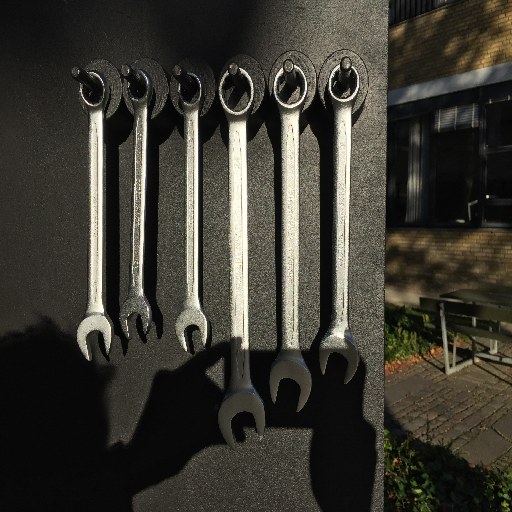bottom: (217, 388, 267, 450), (269, 353, 312, 413), (317, 331, 361, 384), (76, 312, 115, 362), (174, 305, 210, 353), (118, 295, 153, 340)
top: (216, 64, 257, 119), (271, 62, 310, 114), (76, 69, 112, 112), (326, 62, 361, 106), (123, 67, 155, 107), (176, 70, 205, 111)
